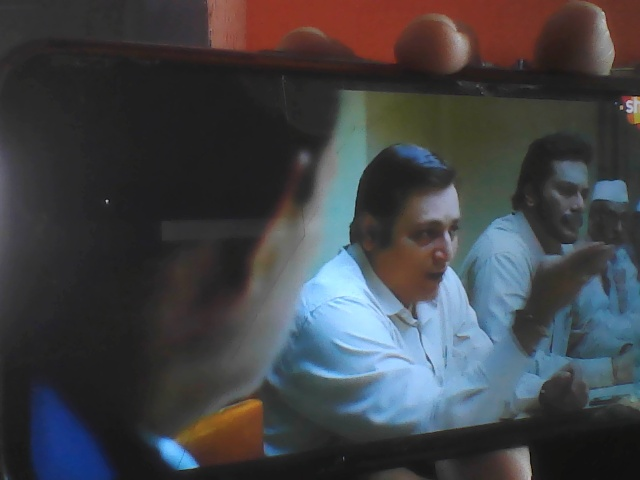fake: (362, 151, 471, 305)
